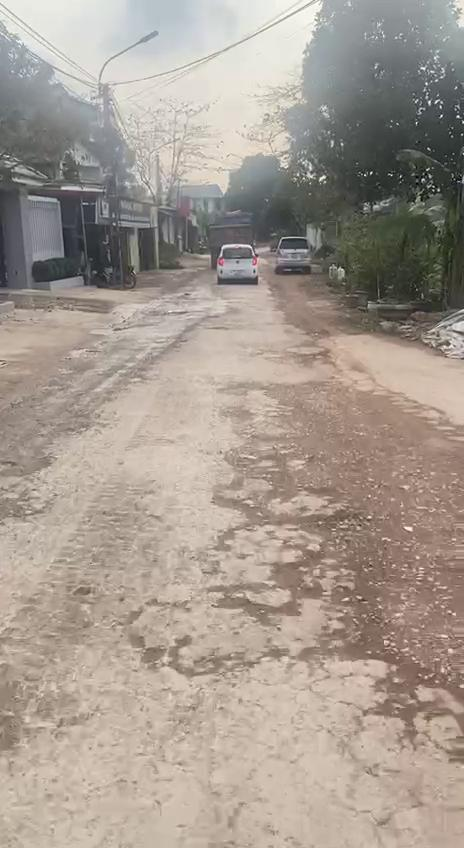pothole: (363, 669, 464, 764), (205, 554, 324, 628), (297, 614, 402, 666), (273, 505, 368, 550), (232, 446, 302, 503), (210, 494, 276, 548), (126, 632, 192, 672)
